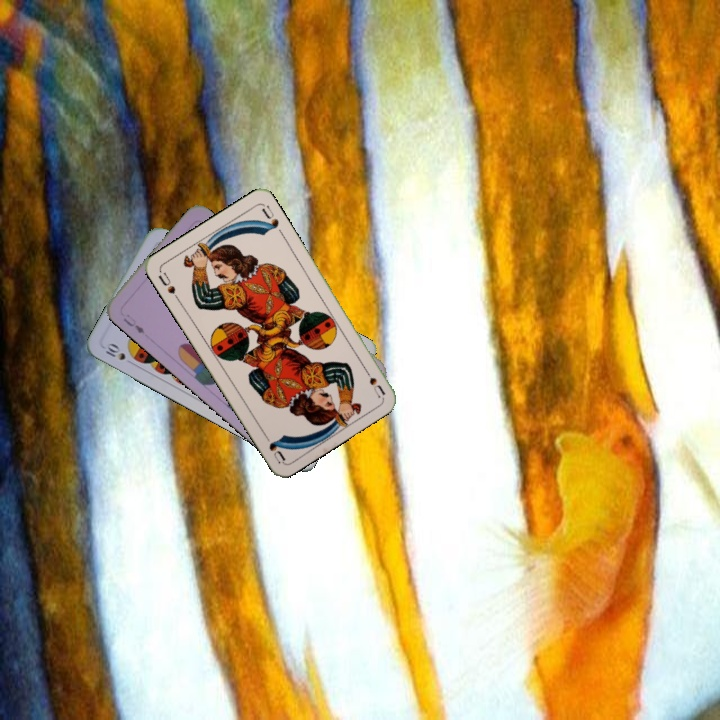EU: (119, 310, 147, 336)
S10: (100, 338, 137, 368)
SU: (359, 362, 388, 400), (154, 267, 182, 304)
